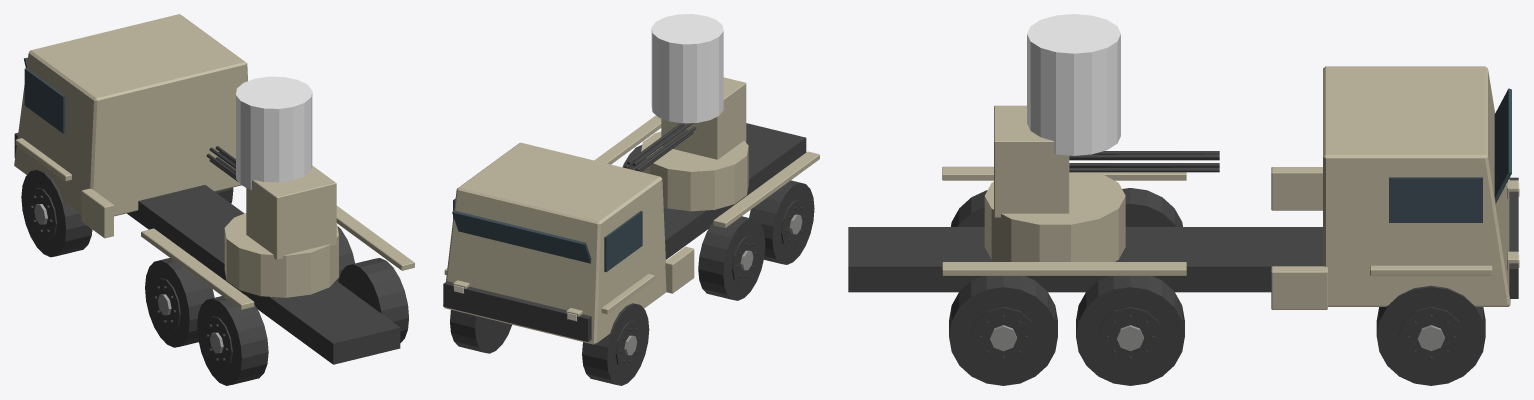
Rendered from usa_aa_cram.glb.
3 views of the same model, side by side, from view 1: azimuth 30°, elevation 25°; view 2: azimuth 150°, elevation 25°; view 3: azimuth 270°, elevation 25° (orthographic). The views are drawn at different scales.
Visible parts, largest first — view 1: body, turret, barrel, wheel_4, wheel_2, wheel_0, wheel_5, wheel_3; view 2: body, barrel, turret, wheel_2, wheel_4, wheel_0, wheel_1; view 3: body, turret, barrel, wheel_5, wheel_3, wheel_1, wheel_2, wheel_4.
Boxes of the visible parts, x1,y1,x2,y2 form: body: (14,14,414,364); turret: (224,165,338,297); barrel: (206,76,312,189); wheel_4: (197,294,268,385); wheel_2: (145,256,214,347); wheel_0: (21,169,92,257); wheel_5: (338,258,408,342); wheel_3: (336,226,354,281); body: (443,115,819,344); barrel: (624,14,723,171); turret: (641,77,748,211); wheel_2: (698,215,765,300); wheel_4: (749,179,814,264); wheel_0: (582,303,649,385); wheel_1: (450,310,511,353); body: (848,66,1519,309); turret: (984,105,1125,261); barrel: (1027,14,1219,172); wheel_5: (949,276,1057,385); wheel_3: (1076,276,1184,385); wheel_1: (1376,285,1485,385); wheel_2: (1122,188,1182,226); wheel_4: (951,190,987,226).
Bounding box in the file's own units: 2.65 × 3.55 × 7.14.
